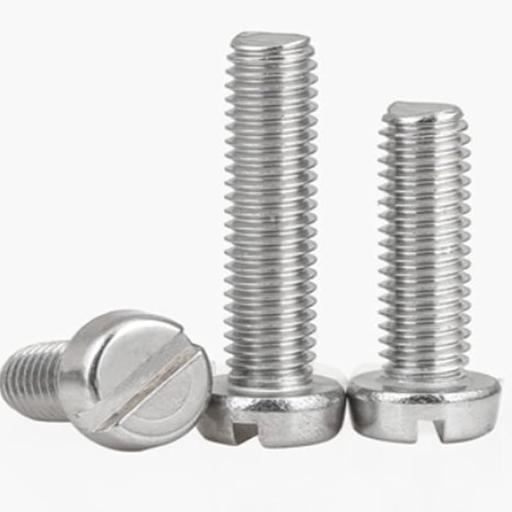Slotted: (61, 306, 212, 454)
